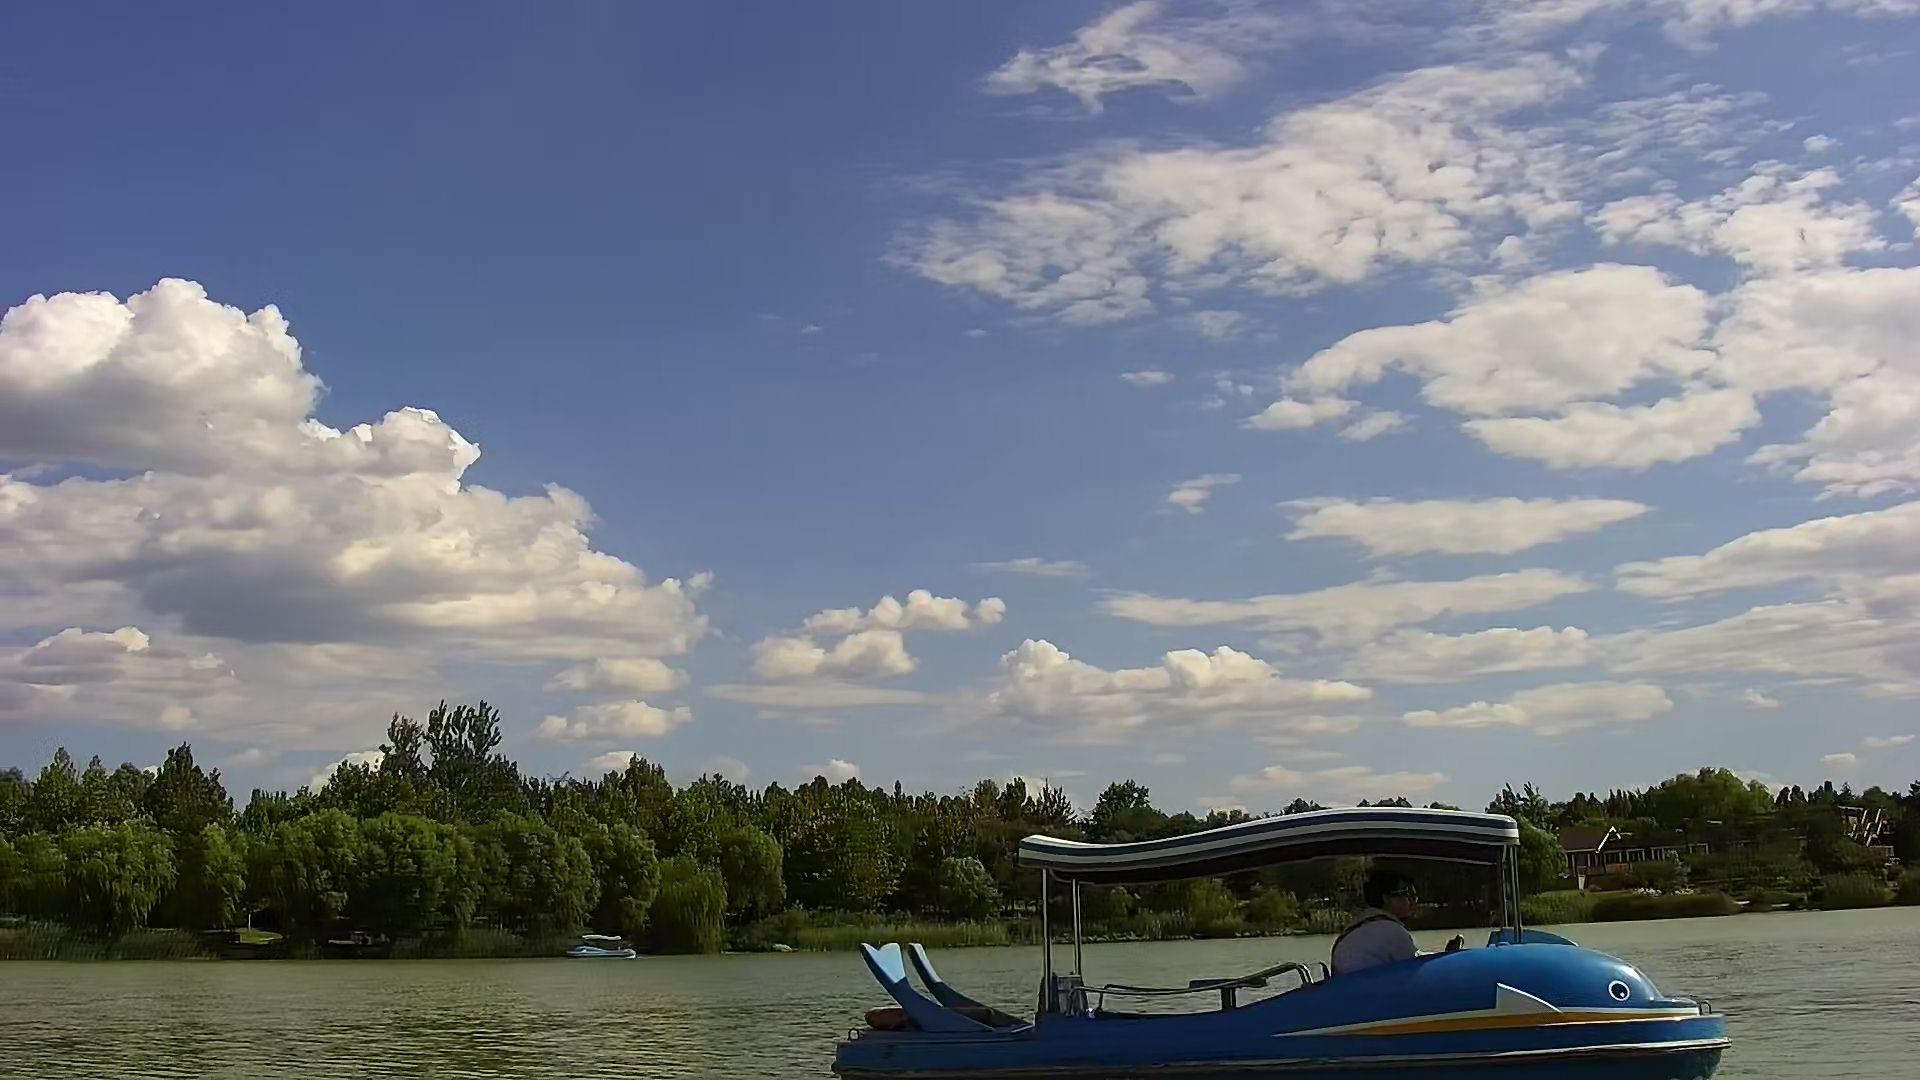boat: (843, 806, 1734, 1075), (567, 927, 634, 963)
person: (1328, 863, 1426, 972)
